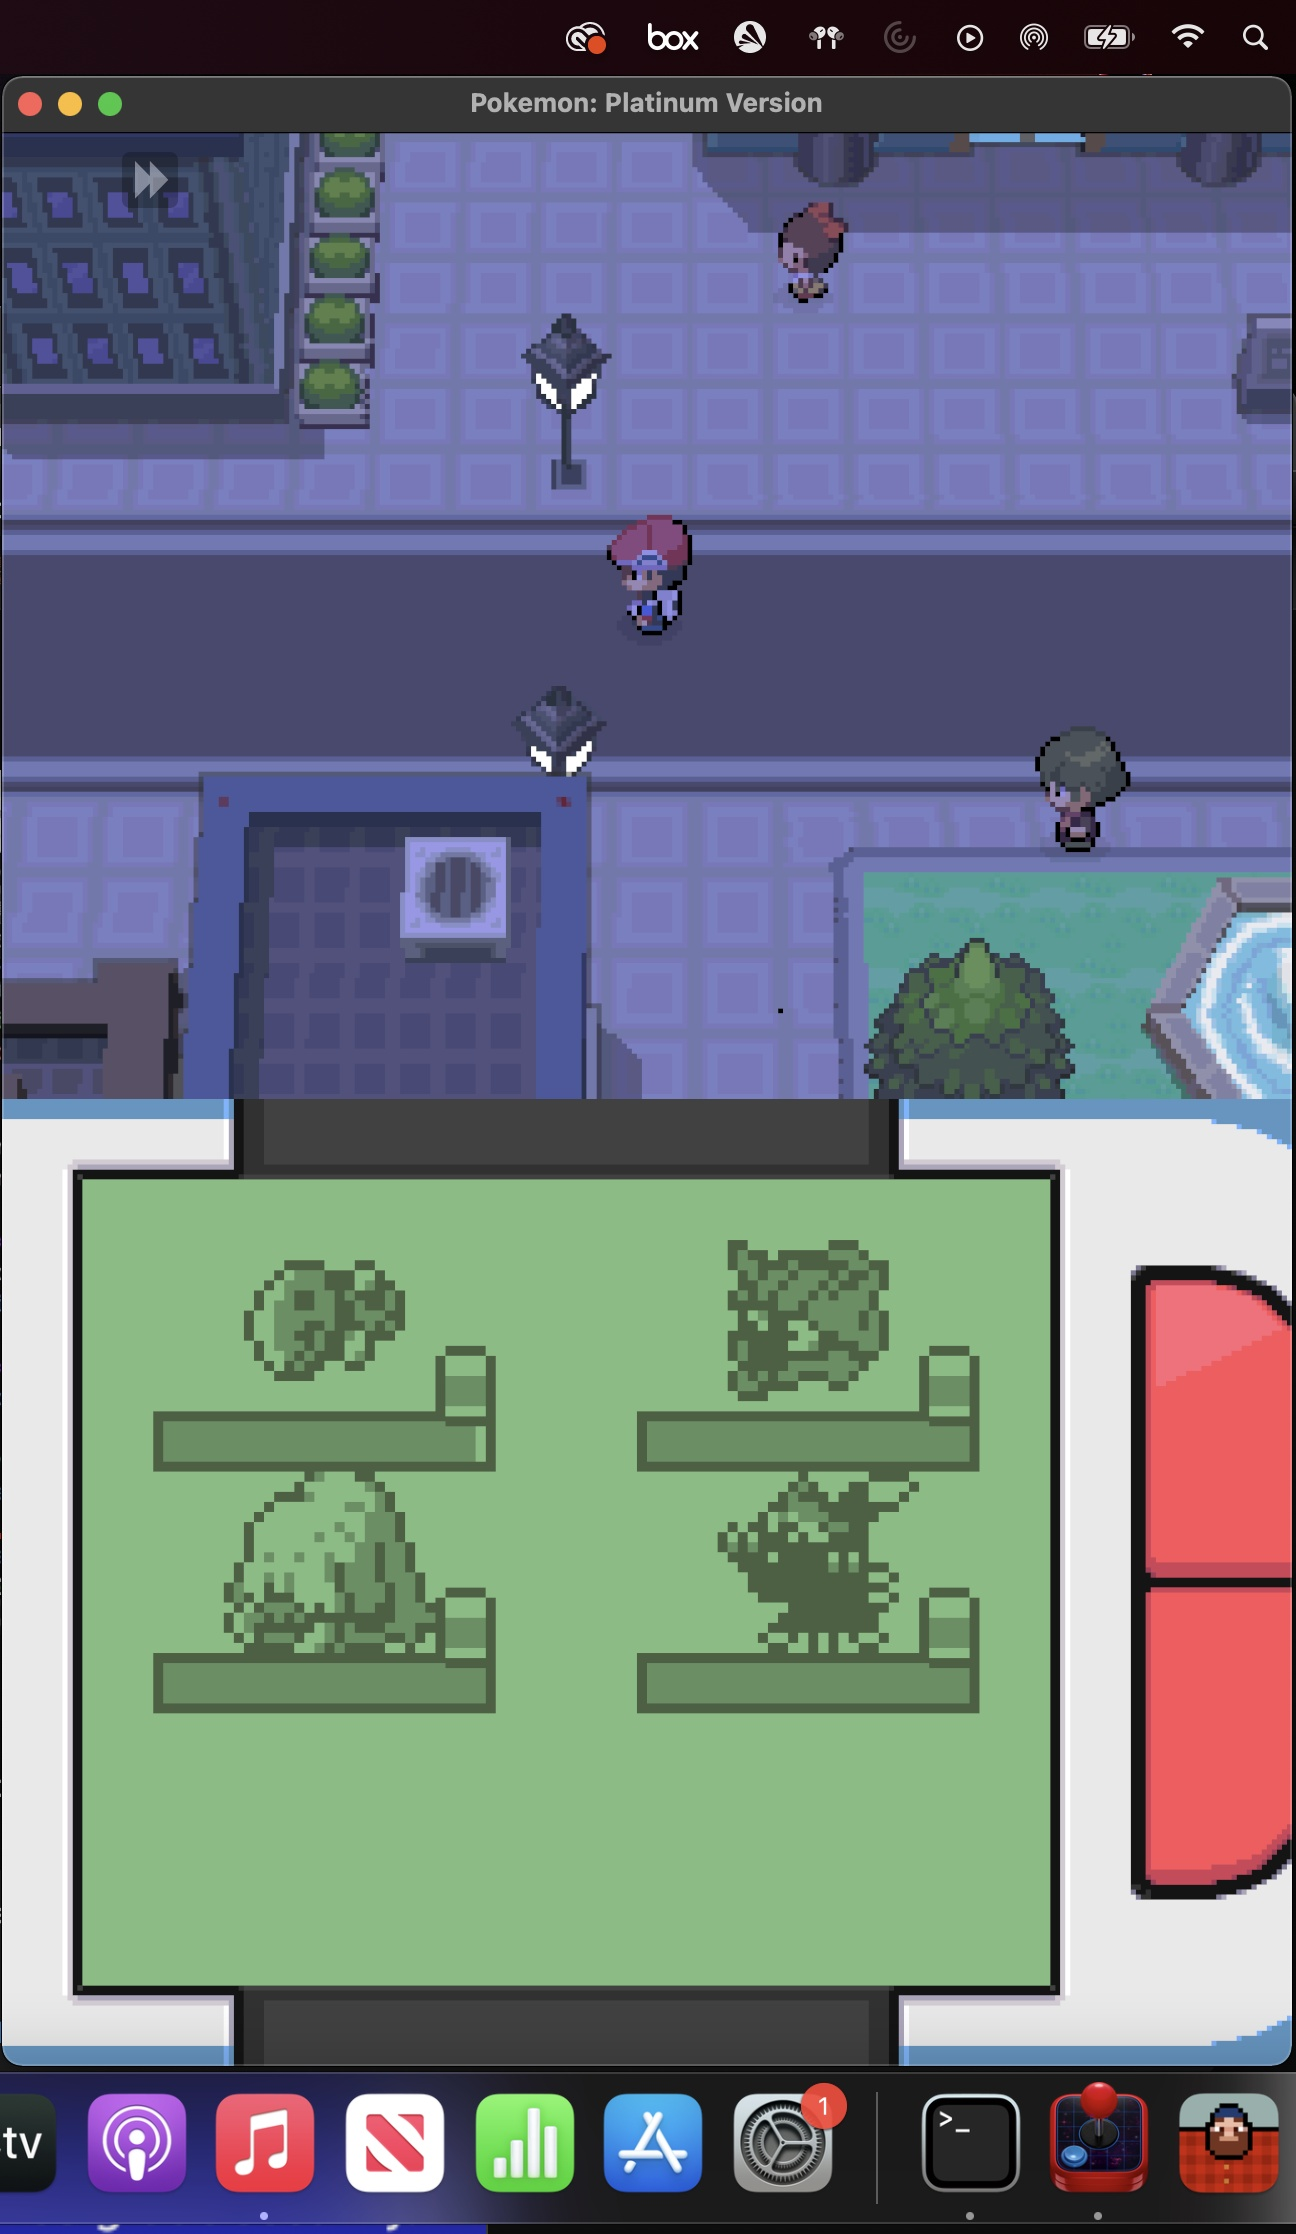player: (595, 504, 703, 638)
